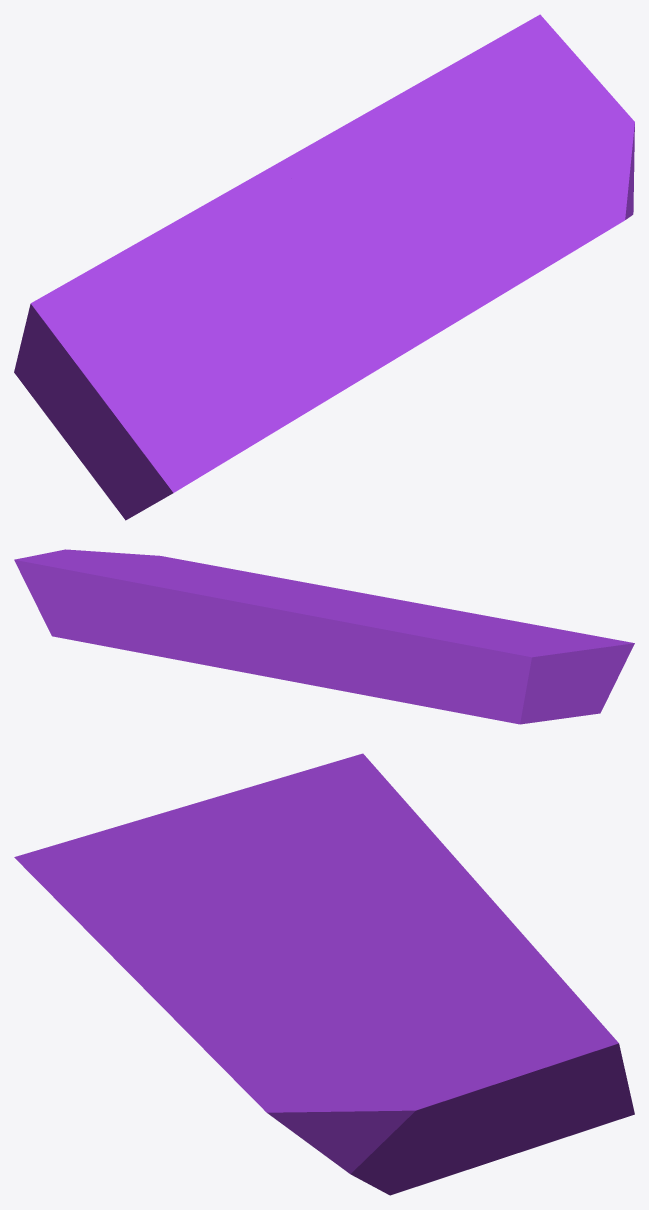
The model's file is Window_134_3_chunks.fbx.
The picture shows the model from 3 angles, top to bottom: view 1: azimuth 30°, elevation 25°; view 2: azimuth 150°, elevation 25°; view 3: azimuth 270°, elevation 25°; orthographic projection. The views are drawn at different scales.
Parts seen in each view (by area): view 1: Window_134_3_0, Window_134_3_3, Window_134_3_2; view 2: Window_134_3_0, Window_134_3_3, Window_134_3_1, Window_134_3_2; view 3: Window_134_3_0, Window_134_3_3, Window_134_3_2.
Boxes of the visible parts, x1,y1,x2,y2 form: Window_134_3_0: [14, 169, 417, 520]; Window_134_3_3: [267, 14, 634, 224]; Window_134_3_2: [410, 151, 634, 345]; Window_134_3_0: [272, 591, 634, 724]; Window_134_3_3: [14, 549, 300, 676]; Window_134_3_1: [267, 649, 493, 719]; Window_134_3_2: [95, 551, 377, 595]; Window_134_3_0: [14, 753, 481, 995]; Window_134_3_3: [342, 888, 634, 1188]; Window_134_3_2: [151, 980, 408, 1195].
Bounding box in the file's own units: 721 × 231 × 508.
